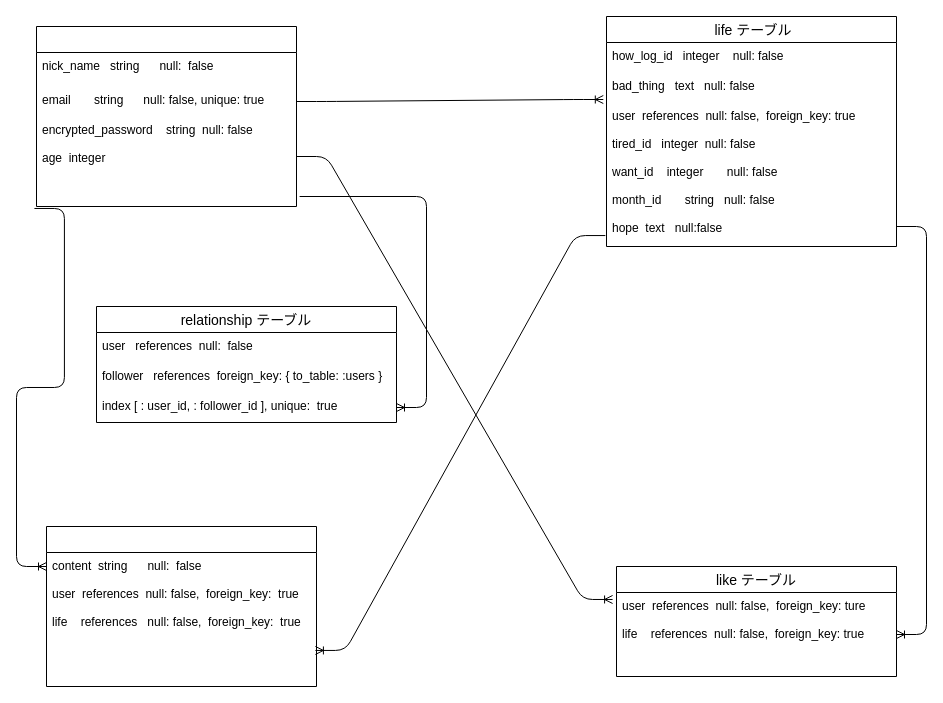
Some shapes in this 943 by 703 pixel diagram are drawn without their labels. The shapes that lost their labels are listed below. From the top down, each one's box as (x1, y1, x2, y2) in pixels, then its label:
(36, 26, 296, 206): users テーブル
(46, 526, 316, 686): yell テーブル
